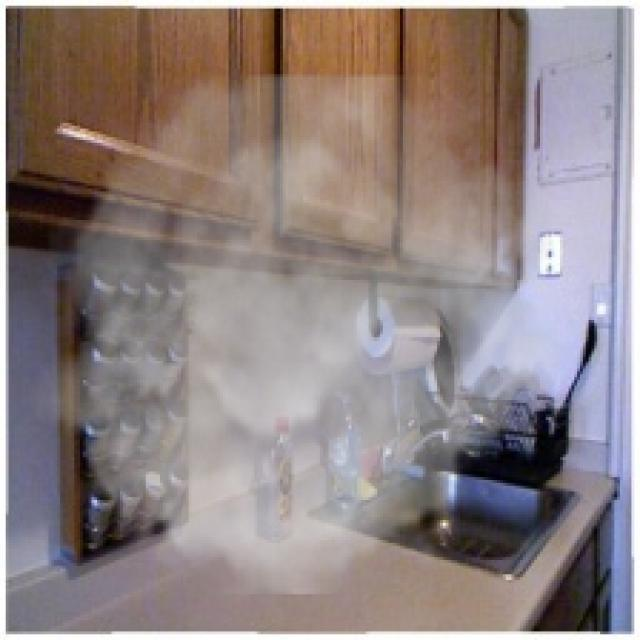Smoke: (29, 75, 572, 594)
